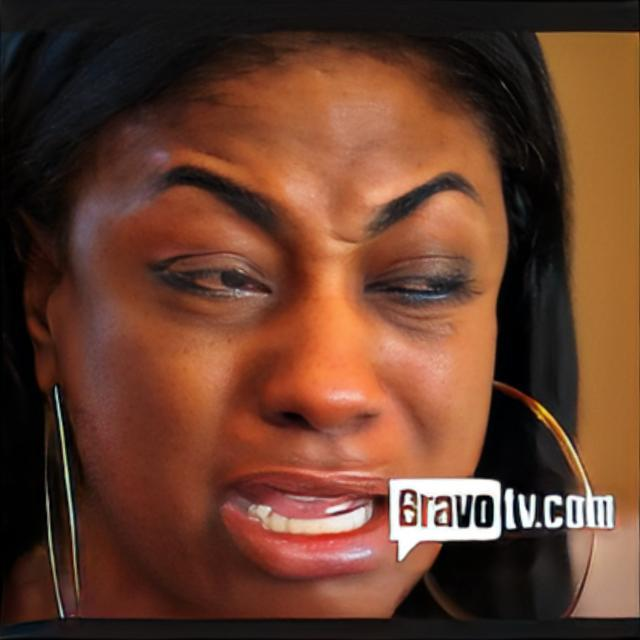disgust: (62, 36, 514, 617)
